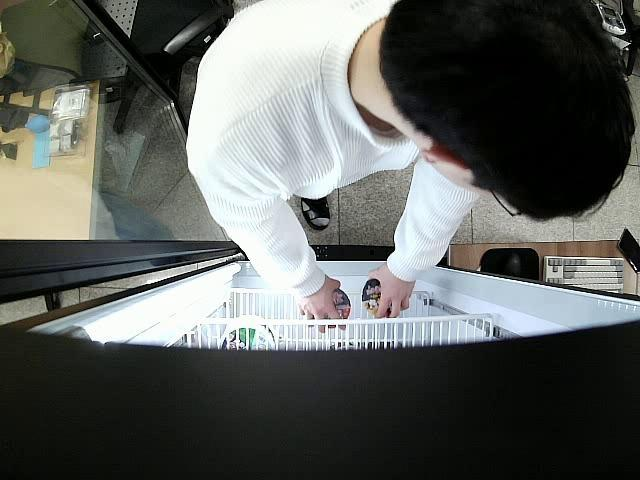08_buldak_S: (311, 289, 351, 322), (362, 278, 392, 317)
